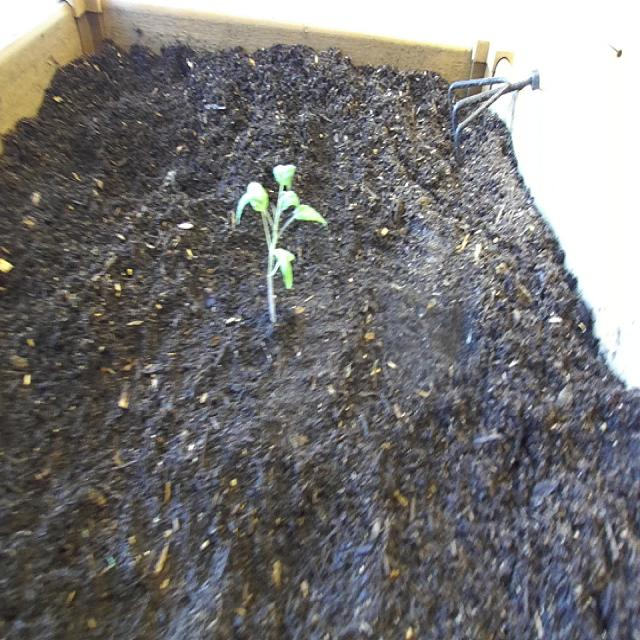Healthy: (232, 158, 332, 328)
